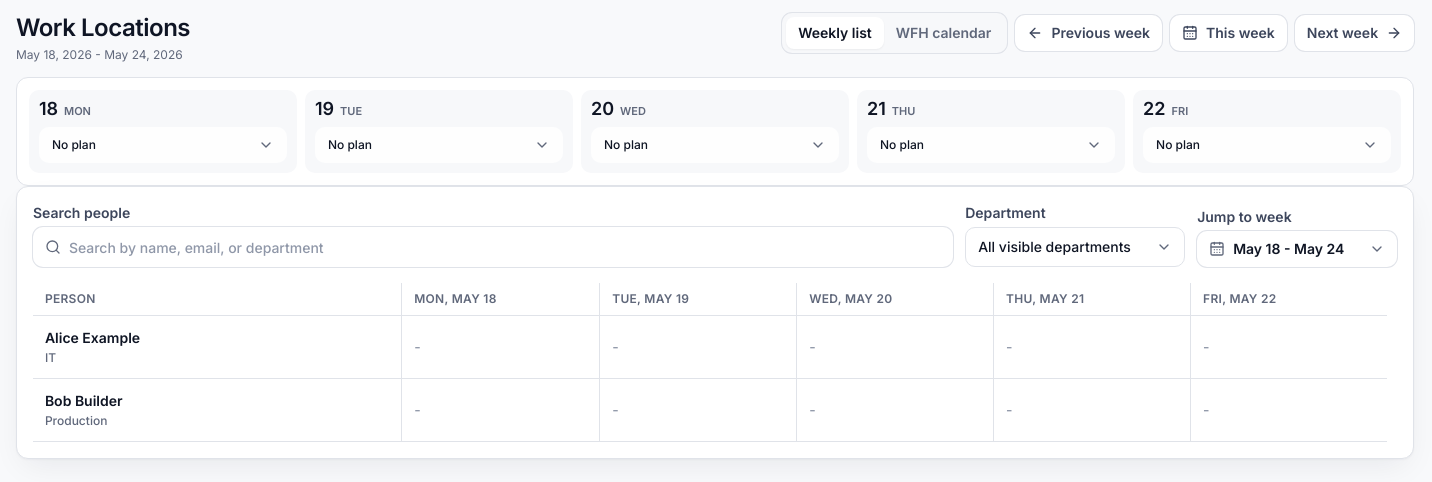
Test: WorkLocationCalendar › keeps other weekday plan controls enabled while one day is saving
Click the button with aria-label "Plan for Wed, May 20".
click(715, 146)  # box x1=592 y1=128 x2=838 y2=162
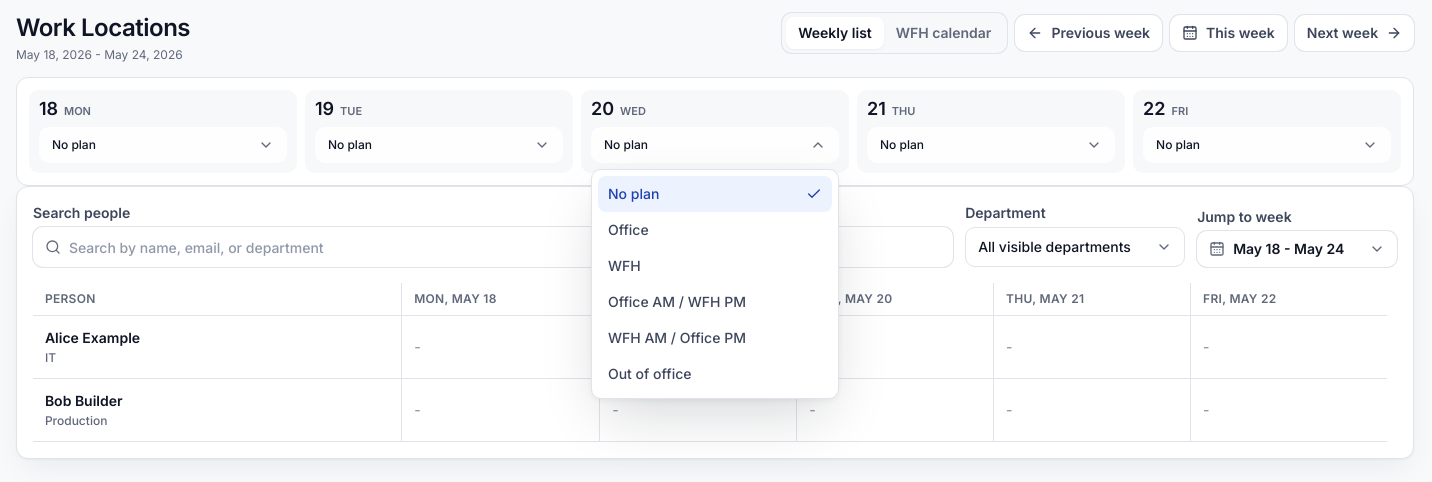
Click the option "Office".
click(715, 230)  # box x1=598 y1=212 x2=832 y2=248
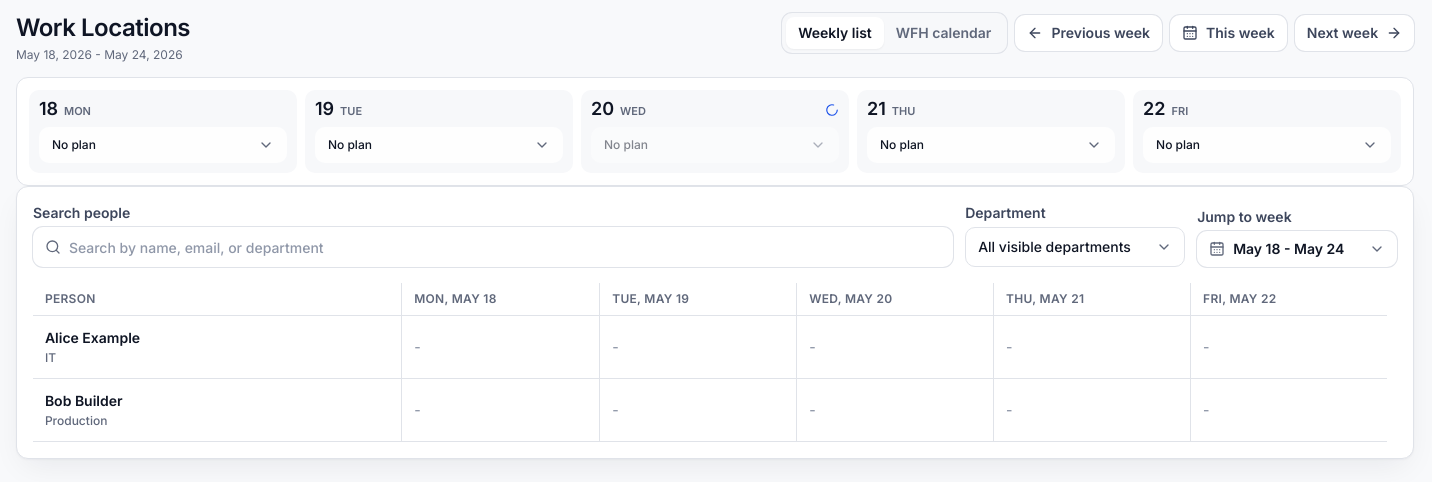
Expected: the button with aria-label "Plan for Wed, May 20" is disabled, x1=592 y1=128 x2=838 y2=162
Click the button with aria-label "Plan for Tue, May 19".
click(439, 146)  # box x1=316 y1=128 x2=562 y2=162
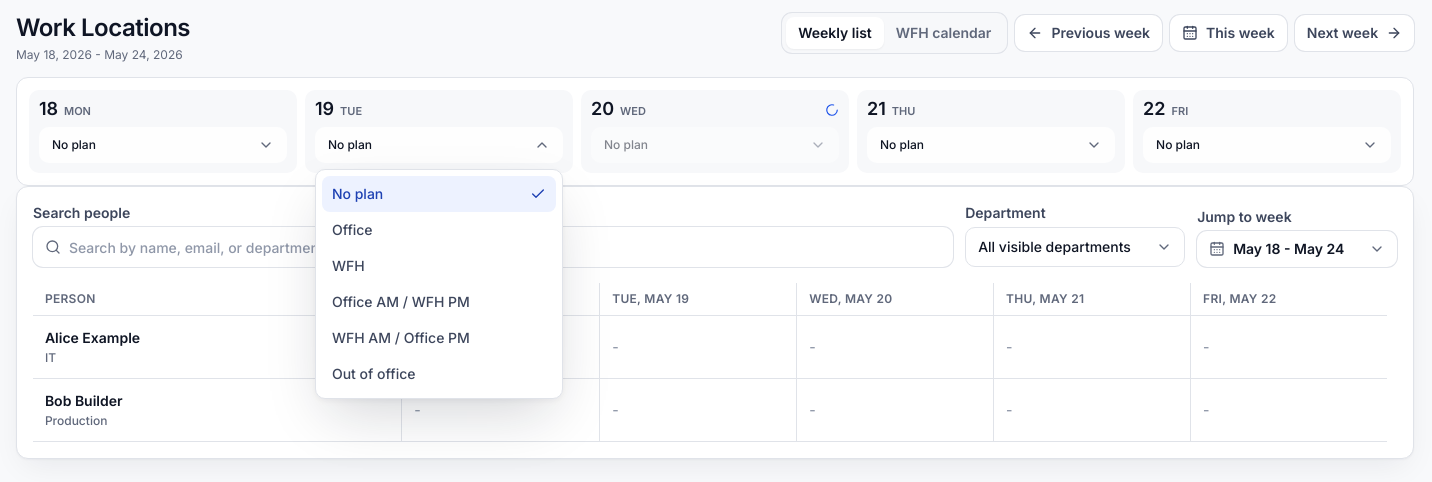
Click the option "WFH".
click(439, 266)  # box x1=322 y1=248 x2=556 y2=284
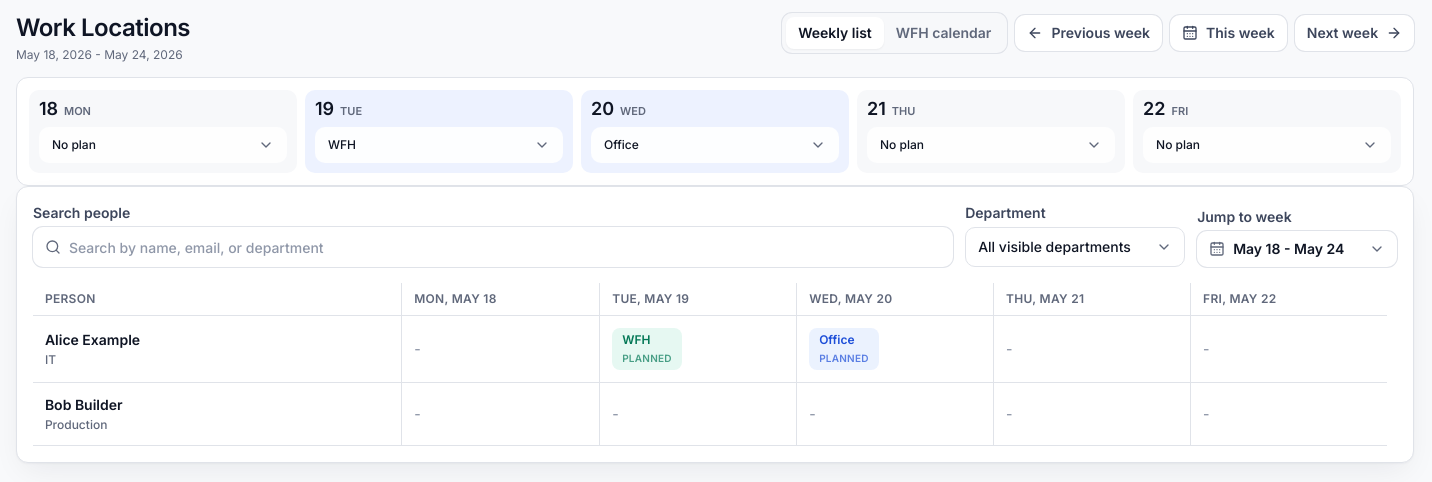
Expected: the button with aria-label "Plan for Wed, May 20" is enabled, x1=592 y1=128 x2=838 y2=162
